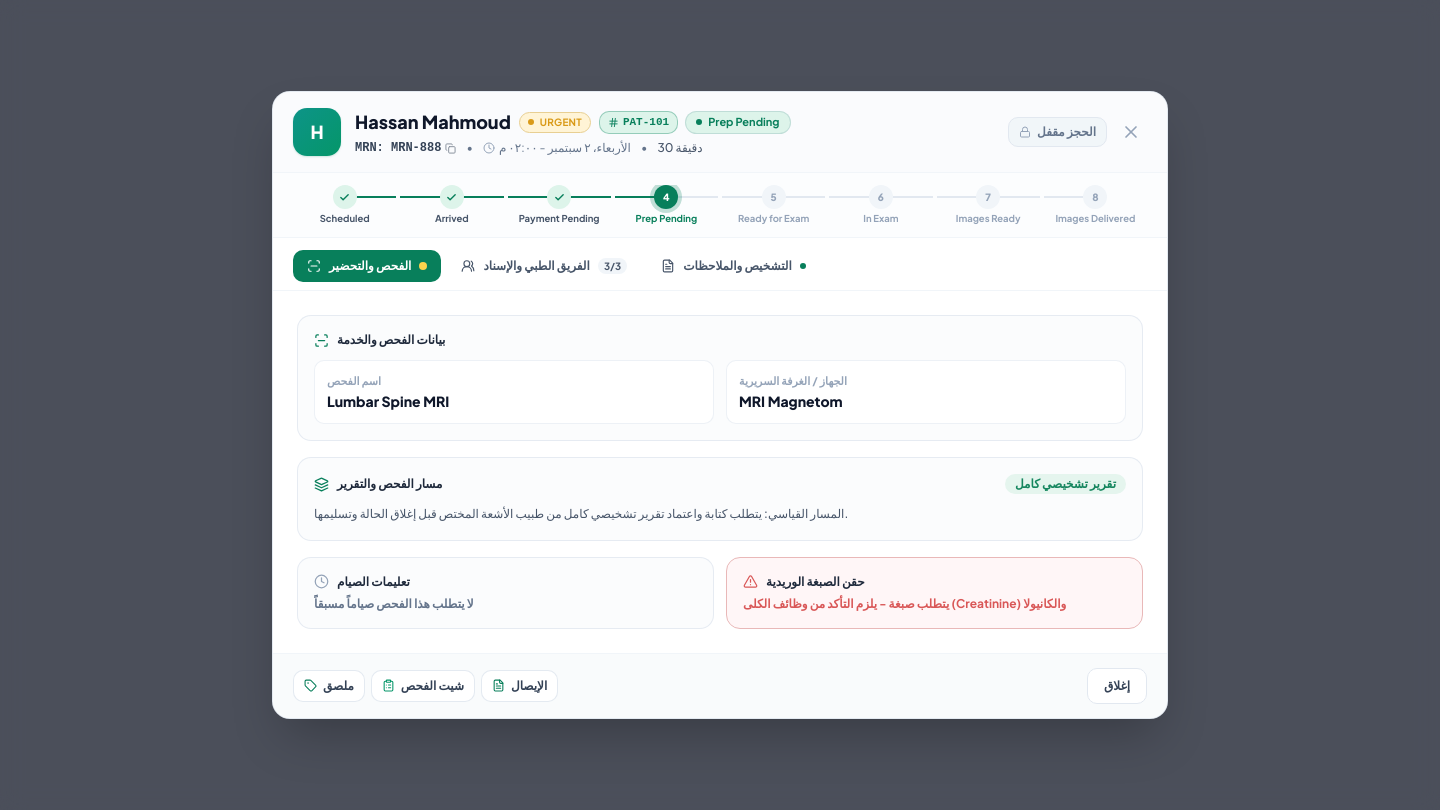
Test case: ReceptionCaseDetailsModal › locks editing after transfer to nursing (Prep Pending stage)
Expected: the text "الحجز مقفل" is shown, x1=1037 y1=124 x2=1096 y2=140
Note: Care team assignment is locked as well once the case moved to nursing
Click the button "الفريق الطبي والإسناد 3/3".
click(544, 266)  # box x1=448 y1=250 x2=641 y2=282
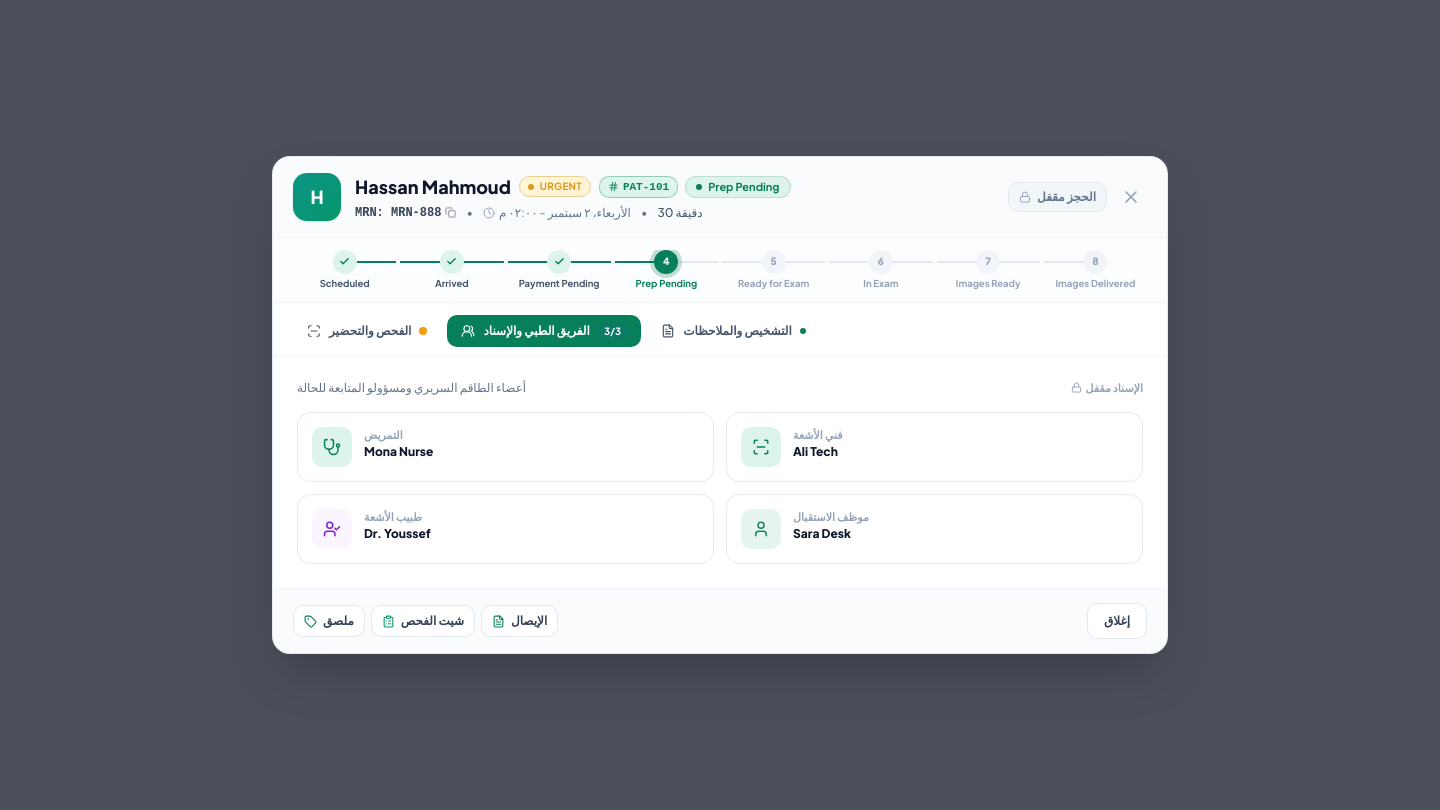
Now the text "الإسناد مقفل" is shown, box x1=1086 y1=380 x2=1143 y2=396
